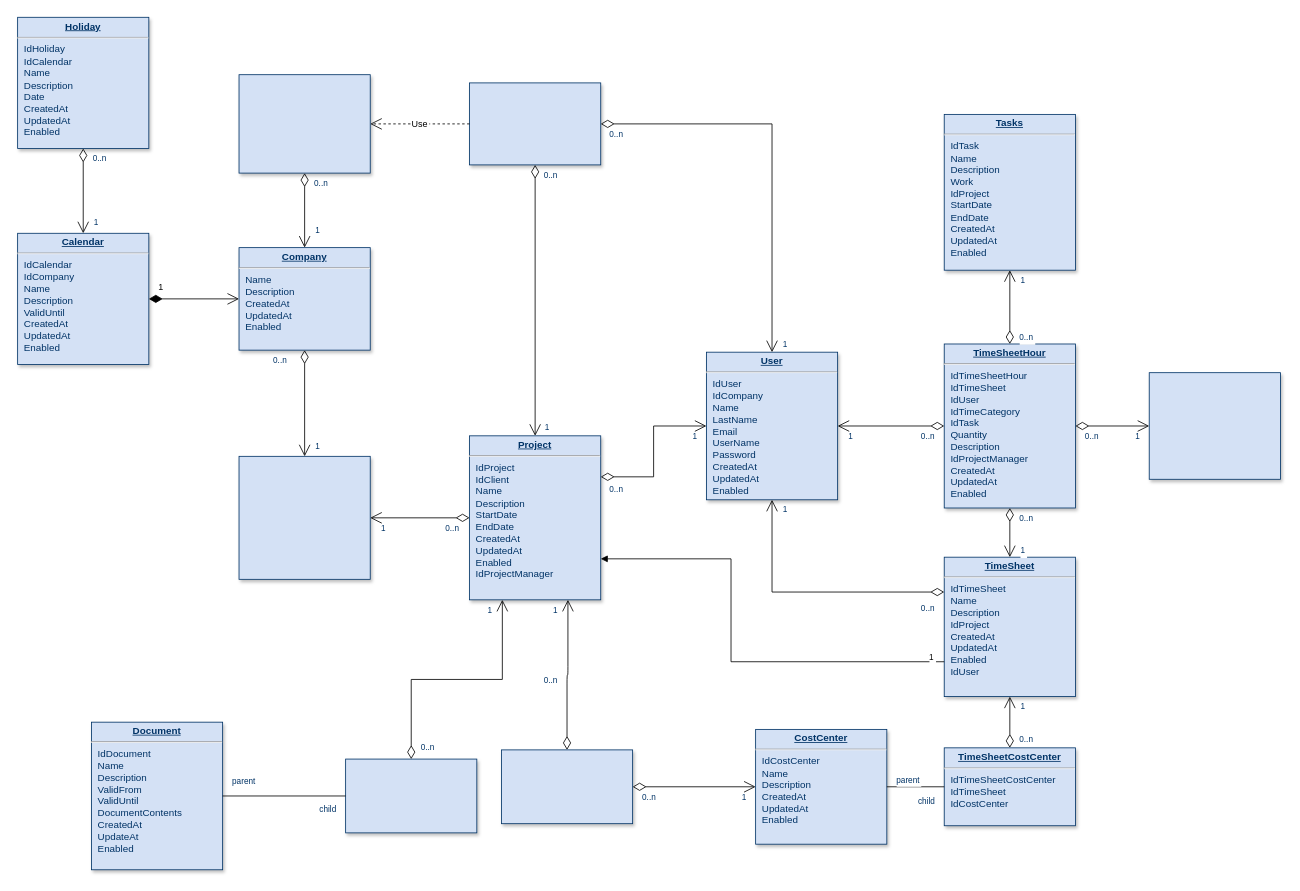
Some shapes in this 1300 by 891 pixel diagram are drawn without their labels. The centre of each missing label's shape, as x and y in pixels:
Client IdClient IdCompany Name Description CreatedAt UpdatedAt Enabled: (305,518)
ProectDocument IdProjectDocument IdProject IdDocument: (412,797)
ProjectCostCenter IdProjectCostCenter IdProject IdCostCenter: (567,787)
Role IdCompany Name Description CreatedAt UpdatedAt Enabled: (305,125)
TimeCategory IdTimeCategory Name Description CreatedAt UpdatedAt Enabled: (1215,427)
UserProjectRole IdUserProjectRole IdRole IdProject IdUser: (535,125)
